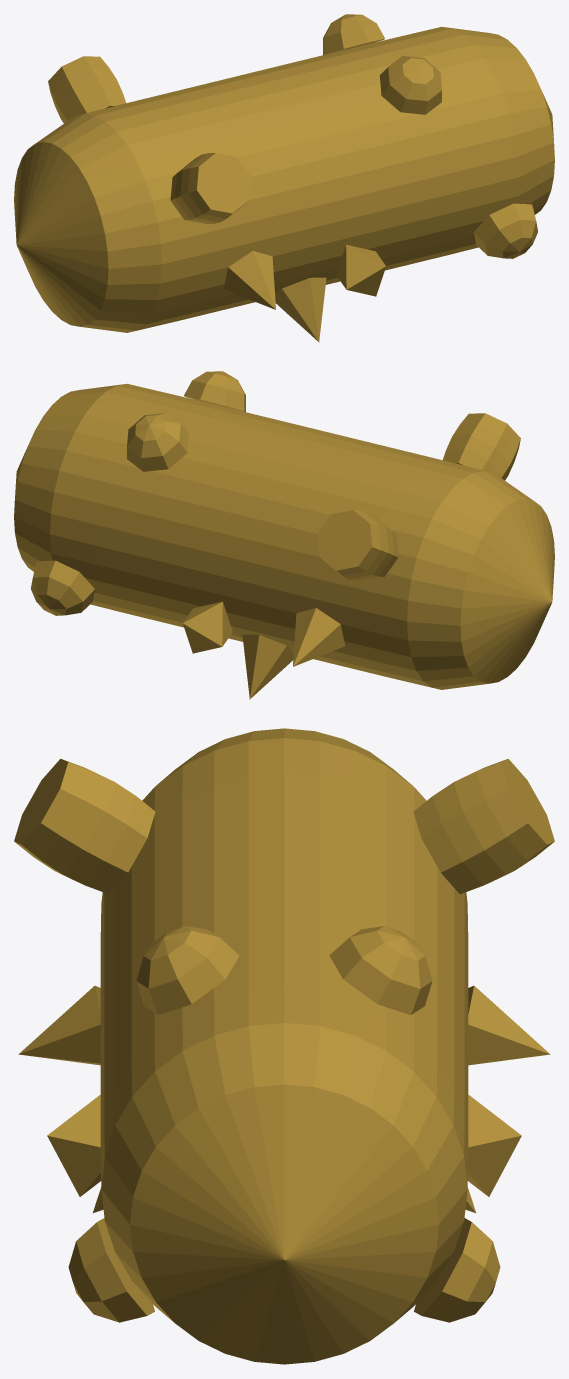
The model's file is exp1_capsule_sym_04.glb.
The picture shows the model from 3 angles, top to bottom: view 1: azimuth 30°, elevation 25°; view 2: azimuth 150°, elevation 25°; view 3: azimuth 270°, elevation 25°; orthographic projection. The views are drawn at different scales.
Parts seen in each view (by area): view 1: exp1_capsule_sym_04; view 2: exp1_capsule_sym_04; view 3: exp1_capsule_sym_04.
Boxes of the visible parts, x1,y1,x2,y2 form: exp1_capsule_sym_04: [14, 14, 554, 342]; exp1_capsule_sym_04: [14, 371, 554, 699]; exp1_capsule_sym_04: [14, 728, 554, 1364].
Size of the model in its own units: 3.58 by 1.48 by 1.91.
